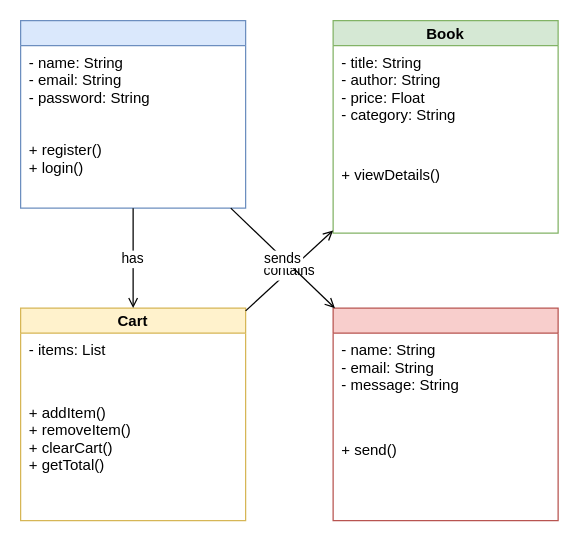
This 579x541 diagram has some shape labels left out. Each missing label, with the box of its shape:
ContactMessage: (332, 307, 558, 521)
User: (19, 19, 246, 208)
